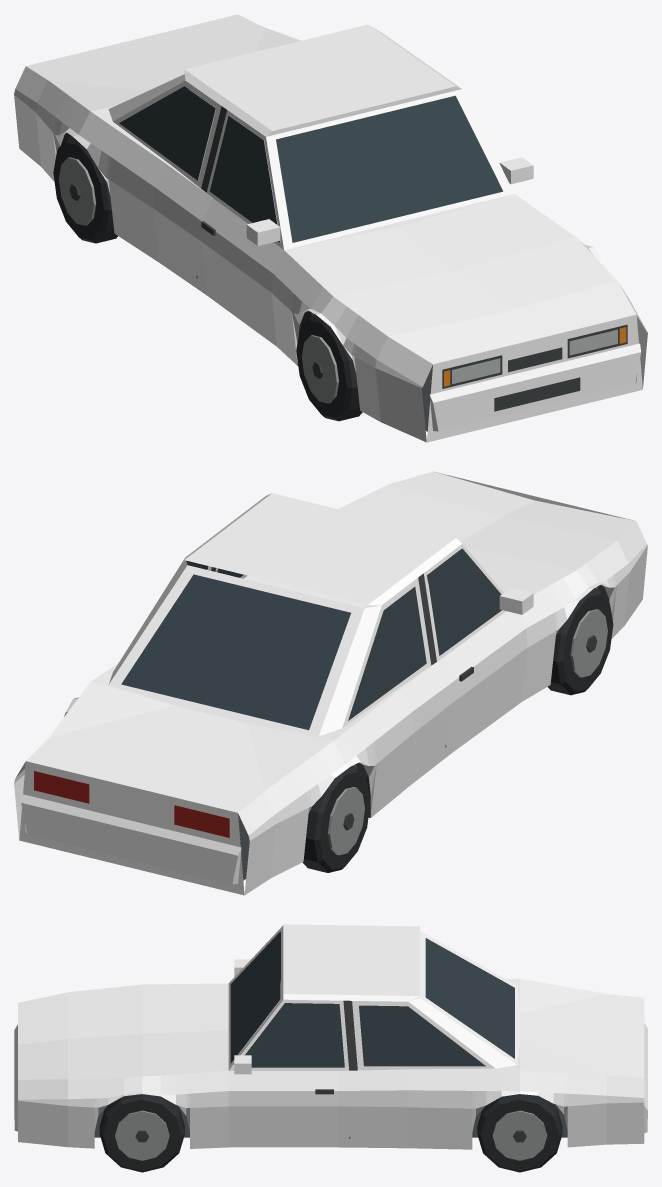
The model's file is hozuki_rindo_s_95.glb.
3 views of the same model, one above another, from view 1: azimuth 30°, elevation 25°; view 2: azimuth 150°, elevation 25°; view 3: azimuth 270°, elevation 25° (orthographic). The views are drawn at different scales.
Parts seen in each view (by area): view 1: hozuki_rindo_s_95; view 2: hozuki_rindo_s_95; view 3: hozuki_rindo_s_95.
Boxes of the visible parts, x1,y1,x2,y2 form: hozuki_rindo_s_95: (14, 14, 647, 442); hozuki_rindo_s_95: (14, 471, 647, 895); hozuki_rindo_s_95: (14, 924, 647, 1172).
Size of the model in its own units: 1.72 by 1.25 by 4.38.
Materials: 8 (1 with a texture image).
